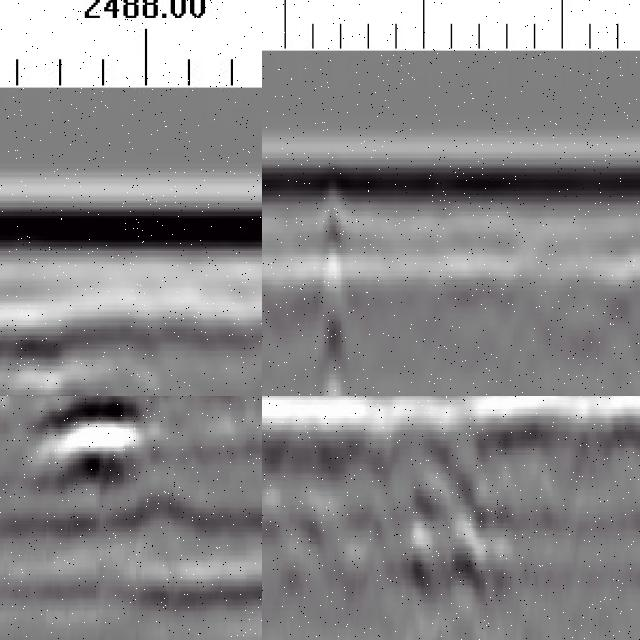crack: (314, 184, 347, 397)
loose: (270, 404, 526, 596), (1, 271, 216, 397), (18, 397, 263, 484)
